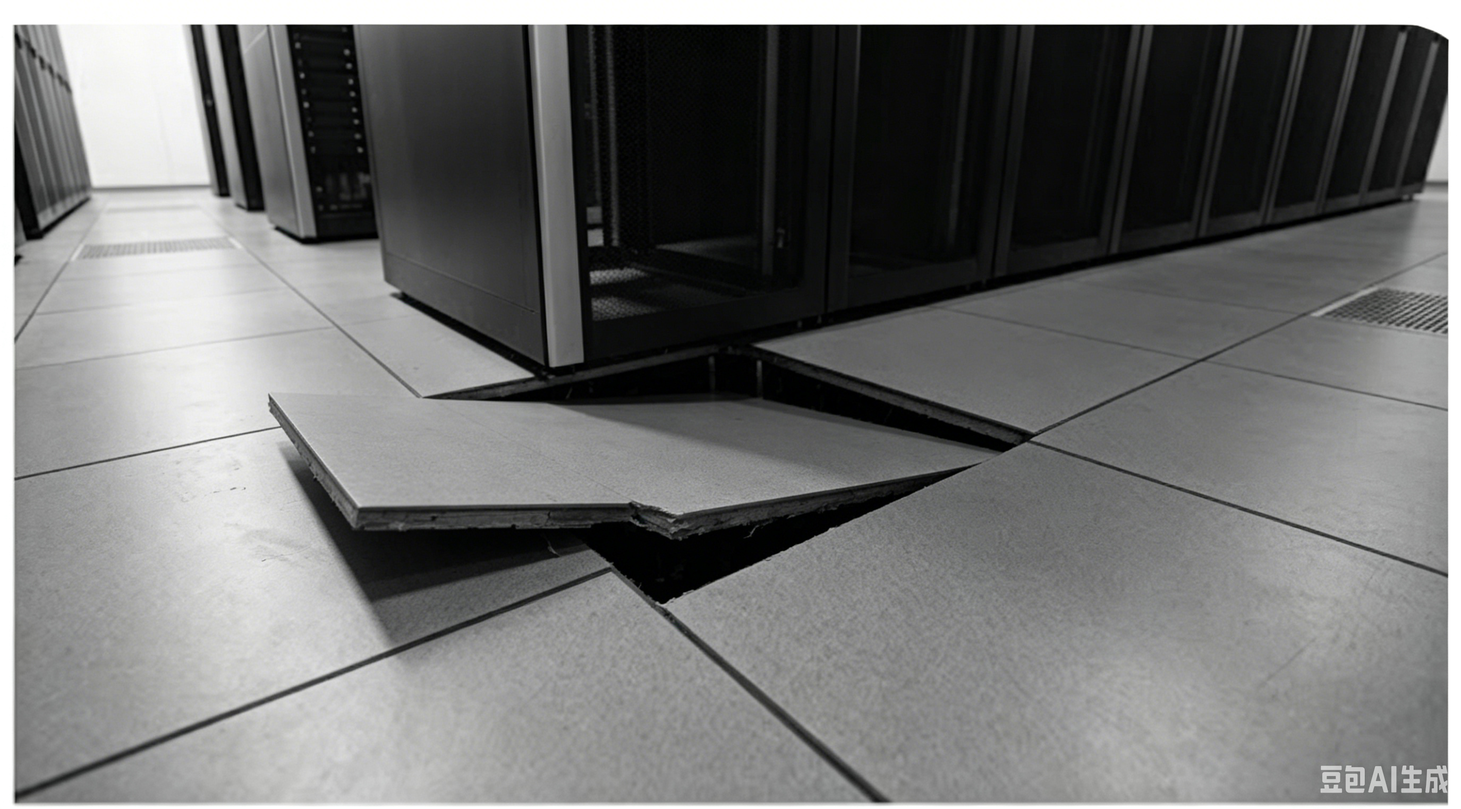floor_defect: (268, 340, 1041, 616)
